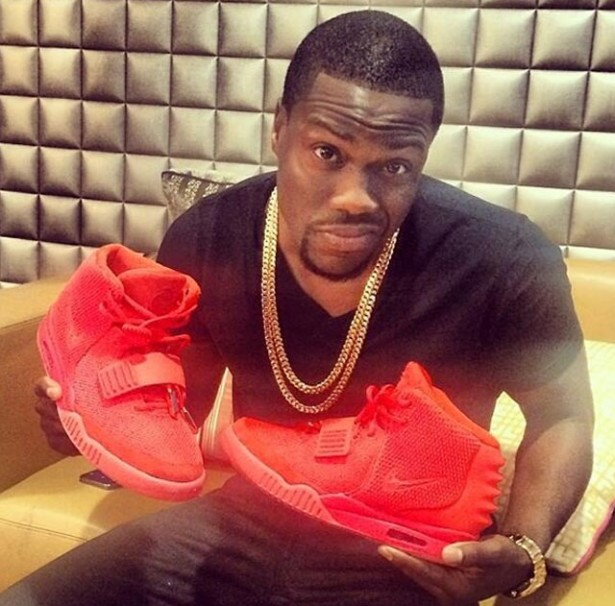Yeezy Red October: (215, 356, 519, 568), (27, 235, 218, 508)
